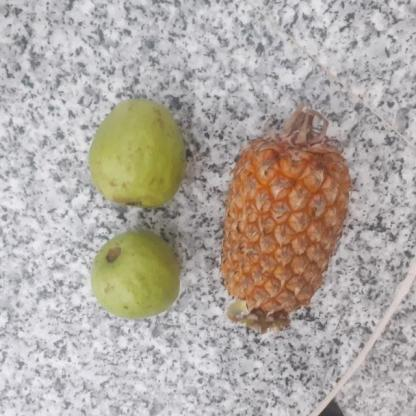guava: (85, 103, 187, 203), (84, 231, 177, 320)
pineapple: (220, 132, 349, 329)
